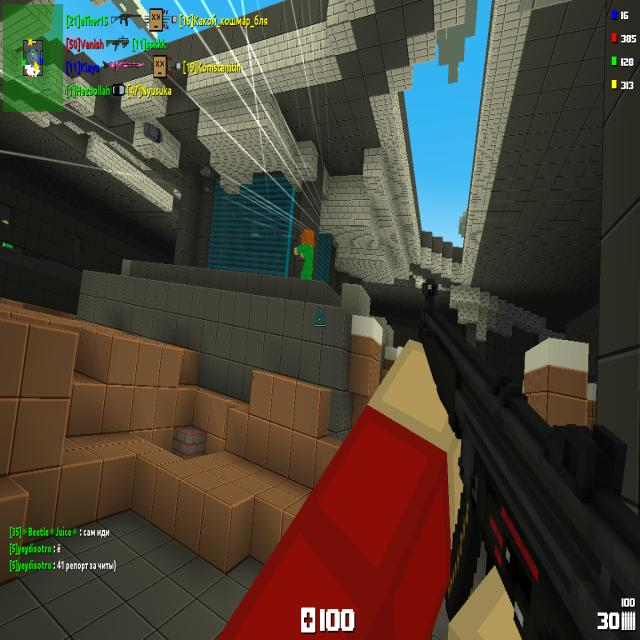enemy: (294, 222, 315, 281), (2, 219, 13, 248)
